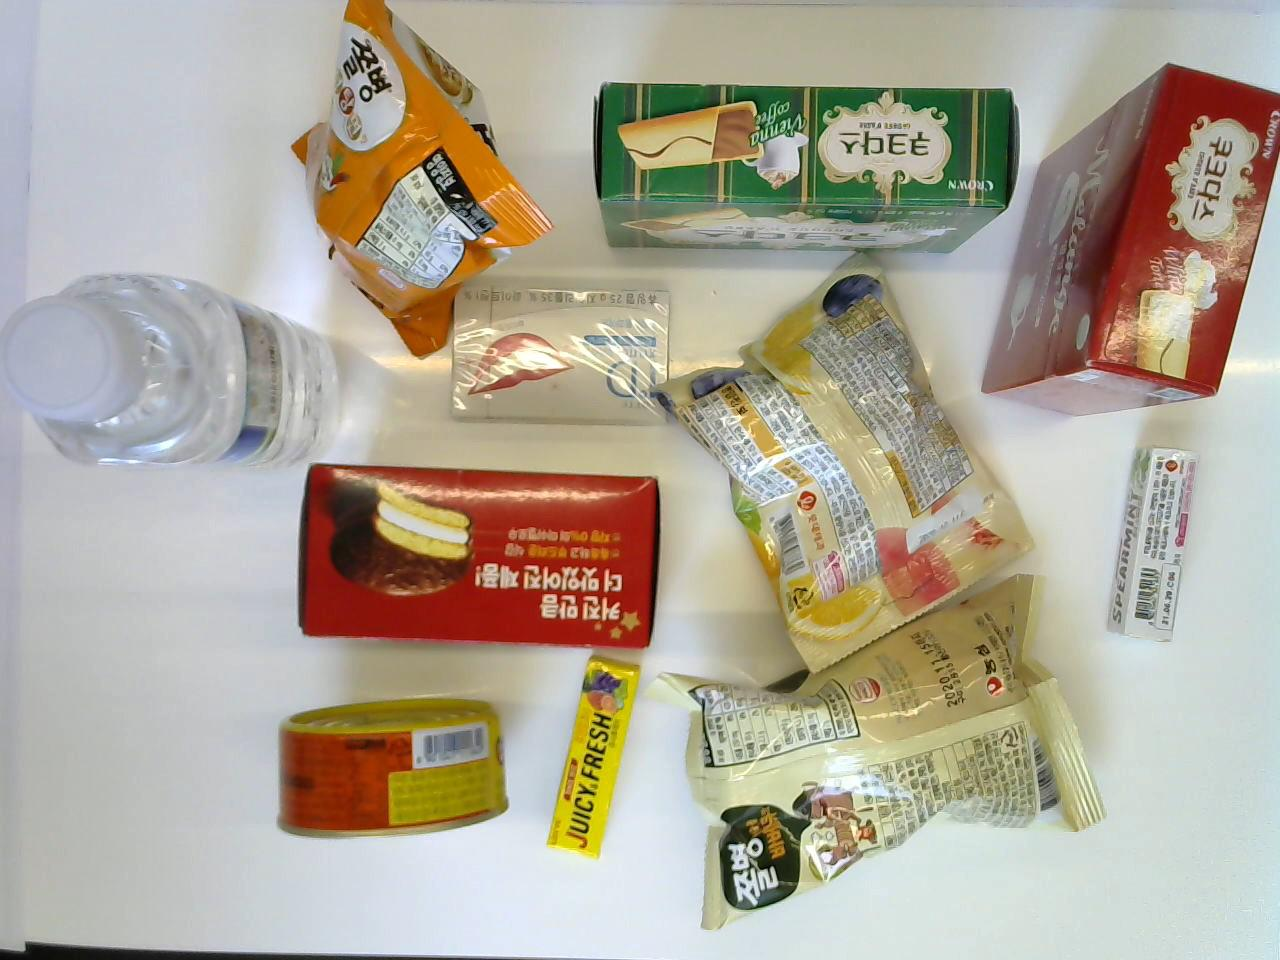ID_gum: (443, 280, 676, 429)
chocopie: (293, 461, 662, 647)
couque_coffee: (591, 79, 1021, 250)
couque_white: (978, 61, 1280, 421)
gumi_gumi: (633, 249, 1038, 676)
jjolbyung_noodle: (282, 0, 559, 360)
jjolbyung_ori: (648, 580, 1107, 941)
juicyfresh: (539, 654, 648, 863)
samdasu: (1, 268, 348, 475)
spearmint: (1102, 440, 1201, 646)
tuna: (275, 691, 510, 844)
